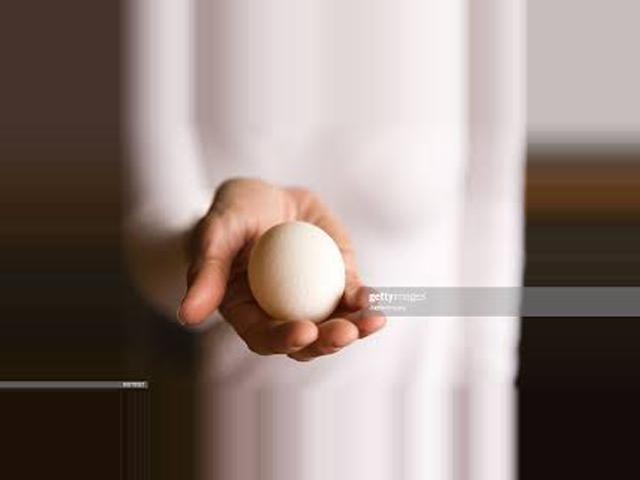egg: (246, 222, 345, 323)
